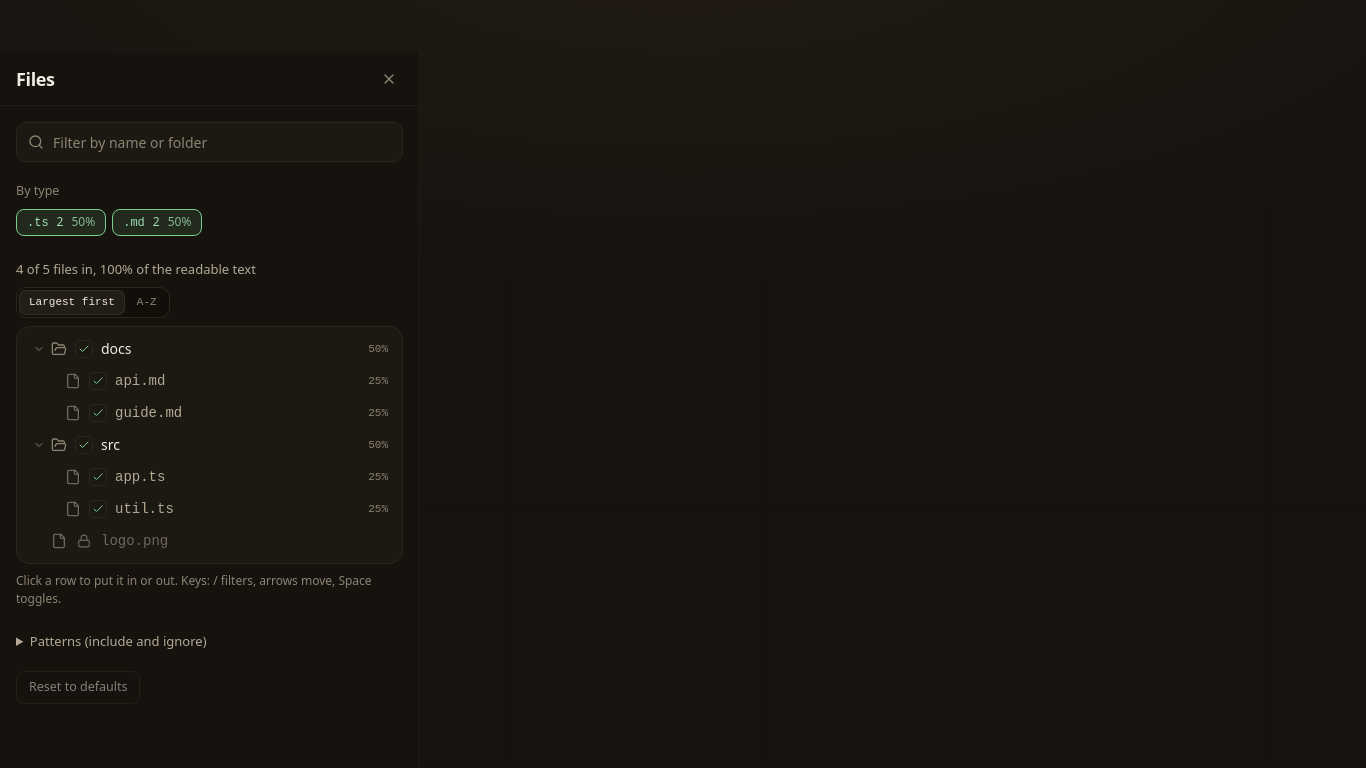
Test: the Files pane › takes out what the filter matches, and Undo puts it back
Type "docs" into the search field labelled "Filter by name or folder".
click(210, 142); type("docs")  # box [16,122,403,162]
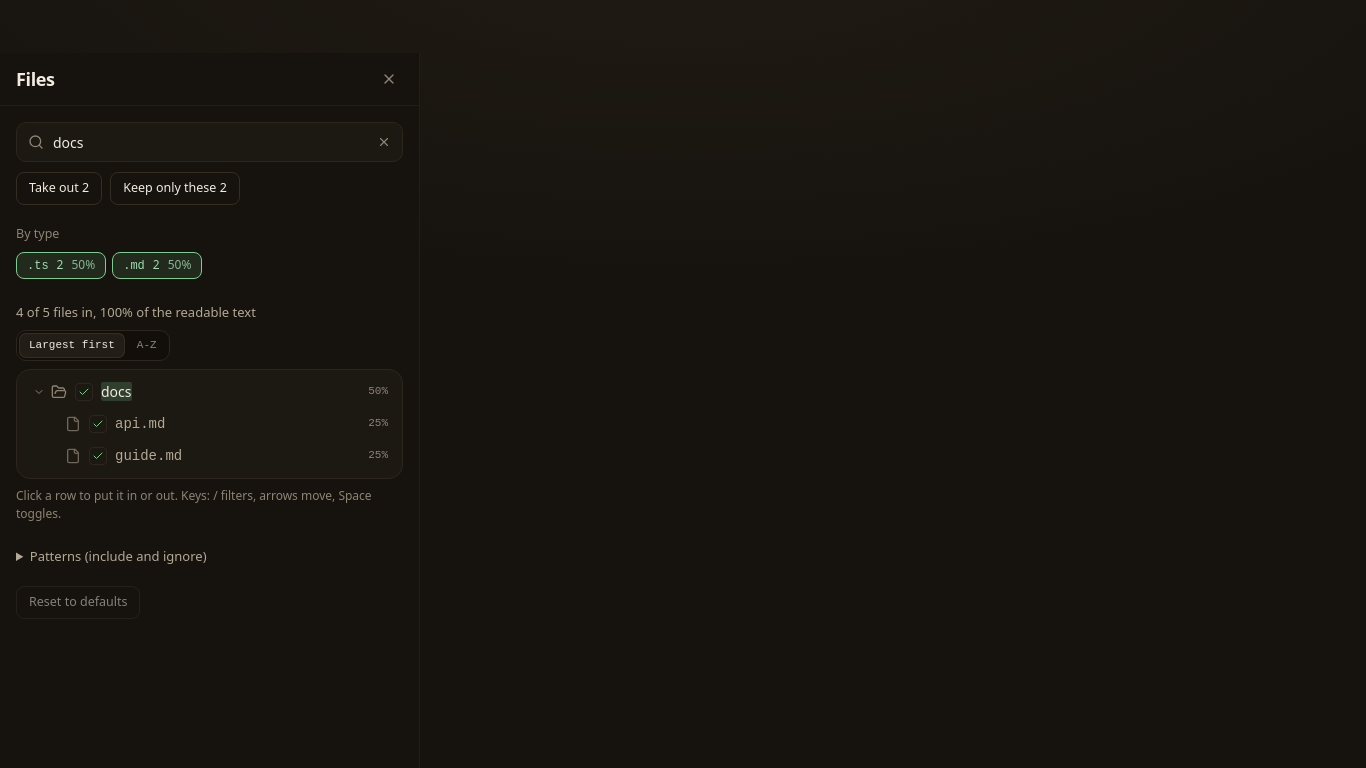
Click the button "Take out 2".
click(59, 188)  # box [16,172,102,205]
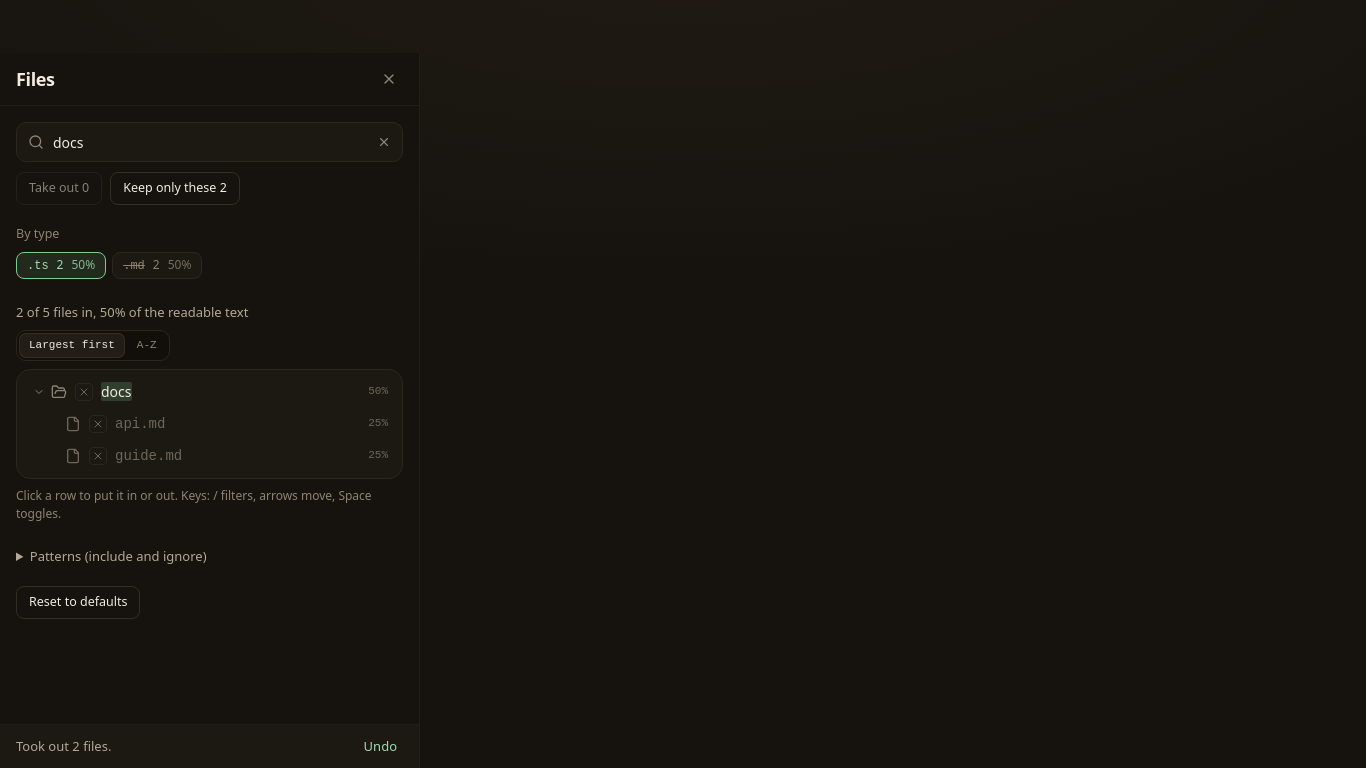
Expected: the text "2 of 5 files in, 50% of the readable text" is shown, [16,302,248,322]
Expected: the message shows "Took out 2 files.", [16,736,111,754]
Click the button "Undo".
click(380, 746)  # box [358,734,403,758]
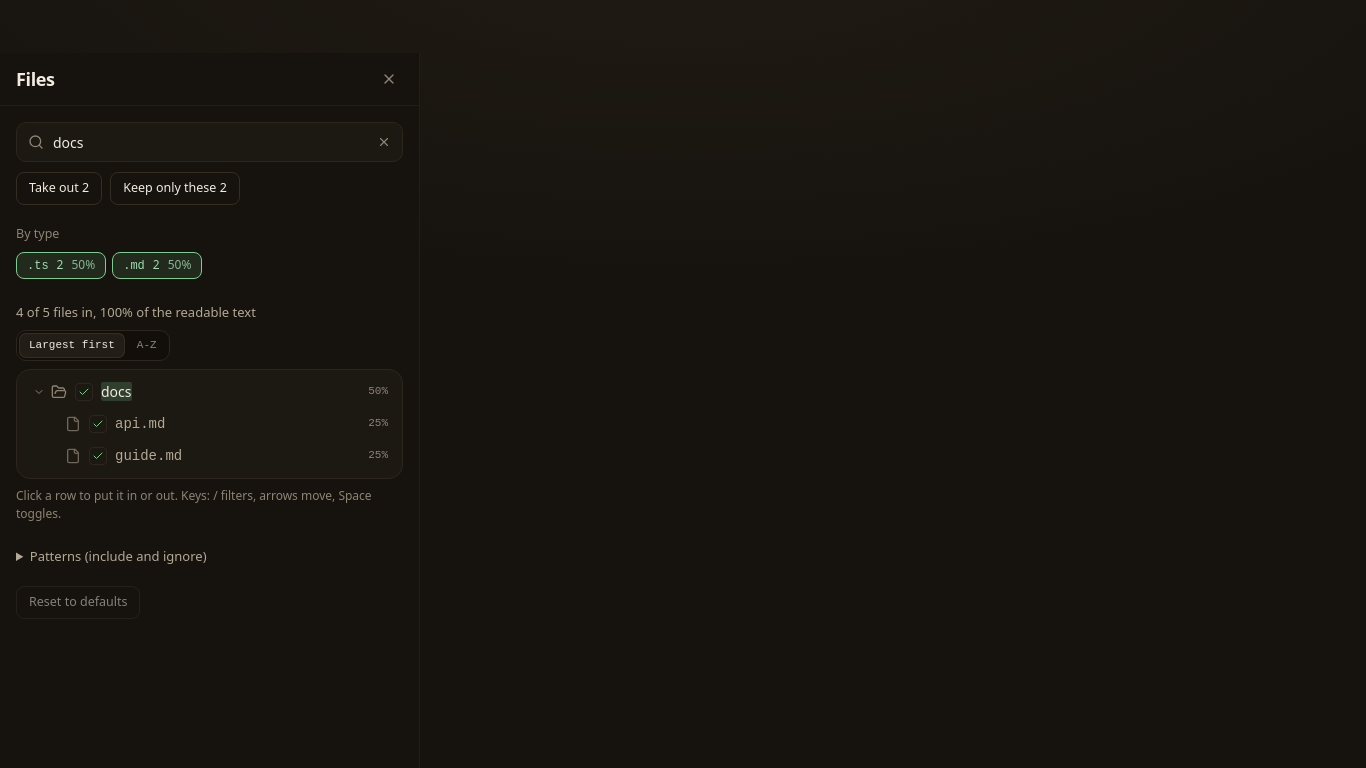
Expected: the text "4 of 5 files in, 100% of the readable text" is shown, [16,302,256,322]
